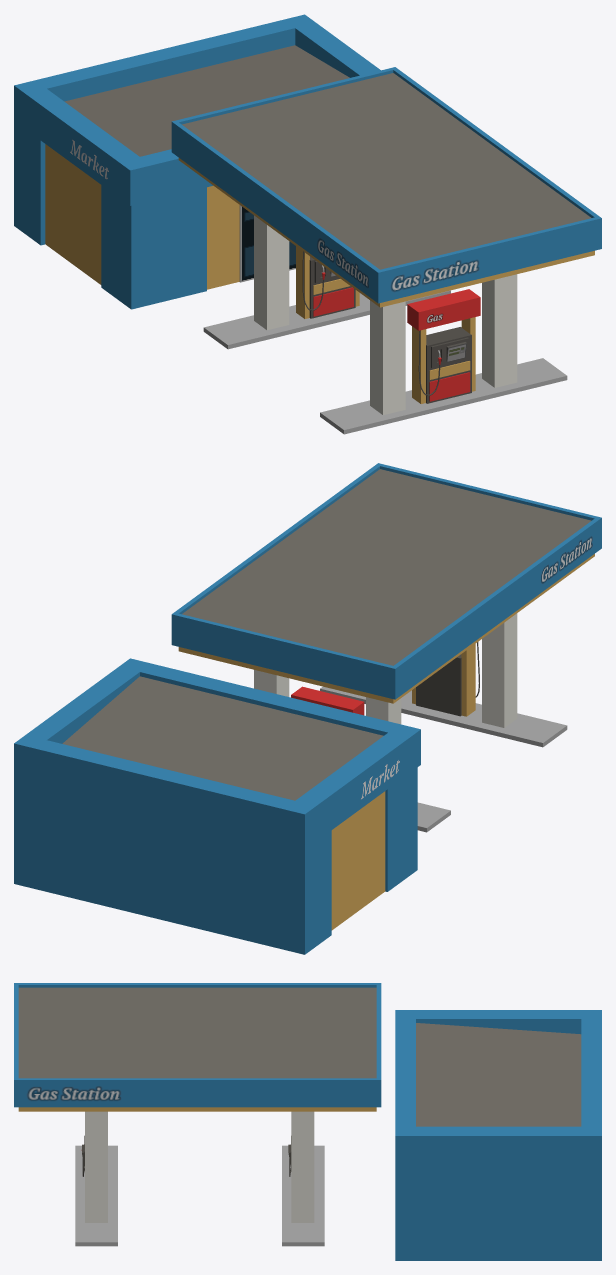
File: building-gas-station.glb
3 views of the same model, one above another, from view 1: azimuth 30°, elevation 25°; view 2: azimuth 150°, elevation 25°; view 3: azimuth 270°, elevation 25° (orthographic). The views are drawn at different scales.
Parts seen in each view (by area): view 1: Building_Gas Station; view 2: Building_Gas Station; view 3: Building_Gas Station.
Boxes of the visible parts, left/top/right/bottom form: Building_Gas Station: left=14, top=14, right=601, bottom=434; Building_Gas Station: left=14, top=463, right=601, bottom=954; Building_Gas Station: left=14, top=983, right=601, bottom=1260.
Bounding box in the file's own units: 13 × 7.99 × 25.6.
Materials: 1 (1 with a texture image).
